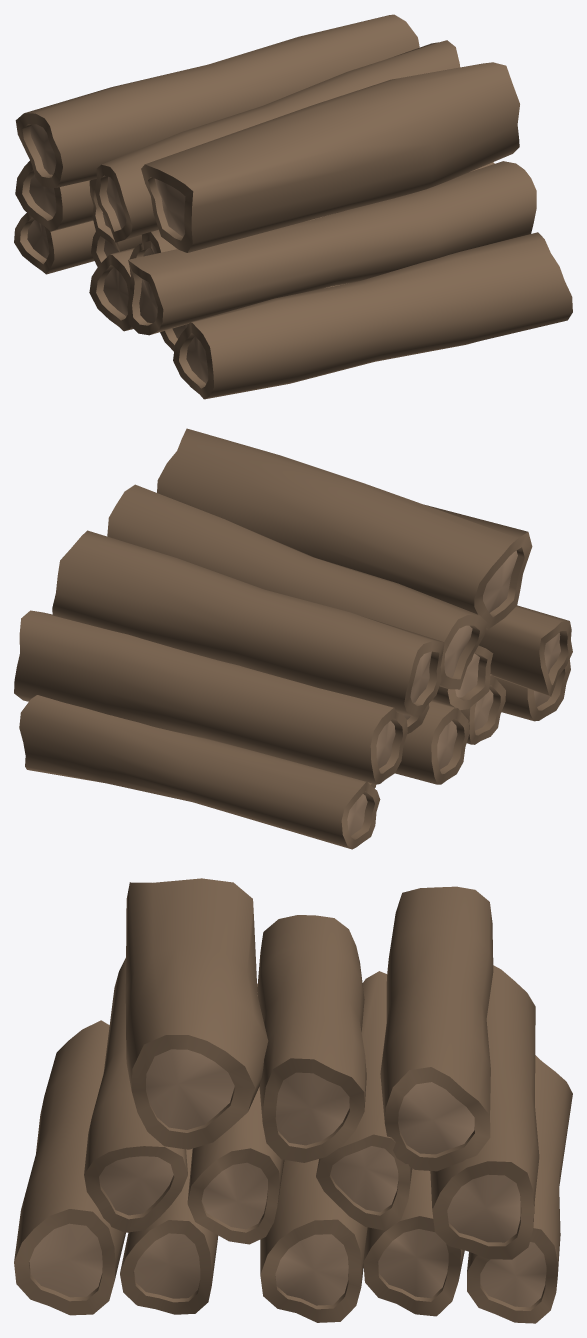
Rendered from P_Woodlog_02.fbx.
3 views of the same model, one above another, from view 1: azimuth 30°, elevation 25°; view 2: azimuth 150°, elevation 25°; view 3: azimuth 270°, elevation 25° (orthographic). The views are drawn at different scales.
Visible parts, largest first — view 1: lod1; view 2: lod1; view 3: lod1.
Boxes of the visible parts, left/top/right/bottom form: lod1: left=14, top=14, right=572, bottom=399; lod1: left=14, top=428, right=572, bottom=849; lod1: left=14, top=878, right=572, bottom=1323.
Size of what is drawn, in the model's own units: 80.75 by 45.51 by 81.23.
